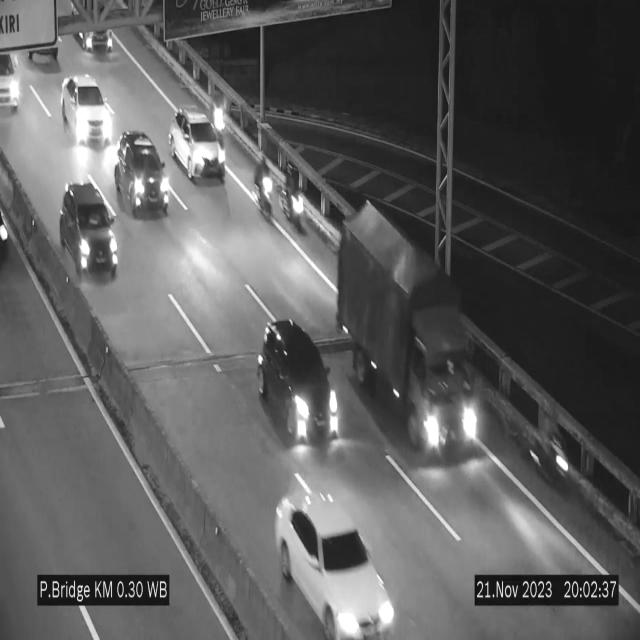Car: (269, 490, 391, 640), (256, 307, 344, 449), (108, 130, 170, 222), (59, 182, 117, 276), (168, 106, 226, 182), (61, 75, 111, 154)
Motorcycle: (547, 420, 573, 490), (281, 160, 307, 228), (250, 158, 274, 222), (208, 90, 230, 140)
Truck: (338, 203, 480, 447)
